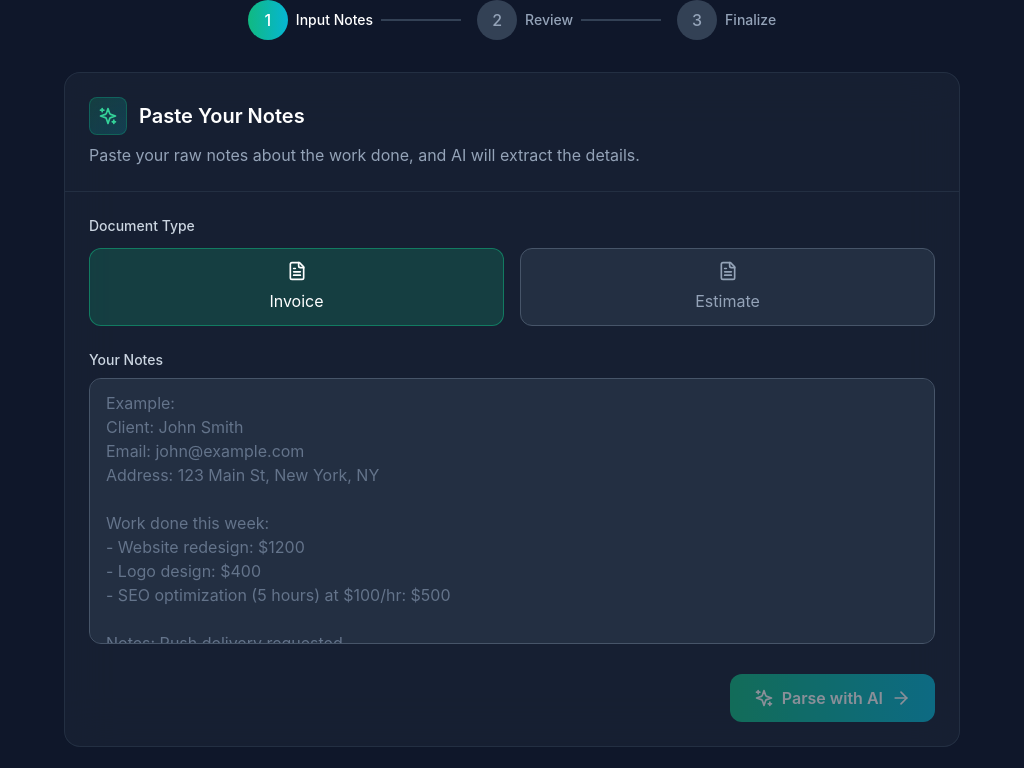
it: Full invoice creation happy path › displays parsed client fields and line items on the Review step
The image size is (1024, 768).
Replace the text in the text box with placeholder "Example:" with "Design work for Acme Corp" at (512, 511), box [89,378,935,644]
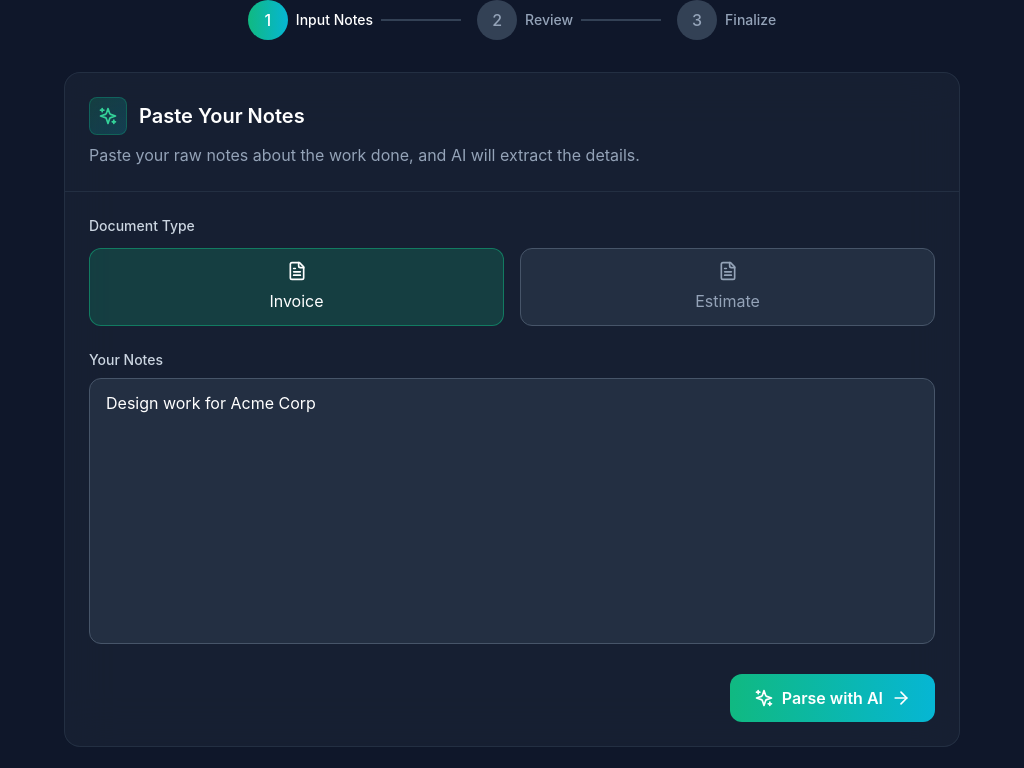
Click the button "Parse with AI" at (832, 698), box [730,674,935,722]
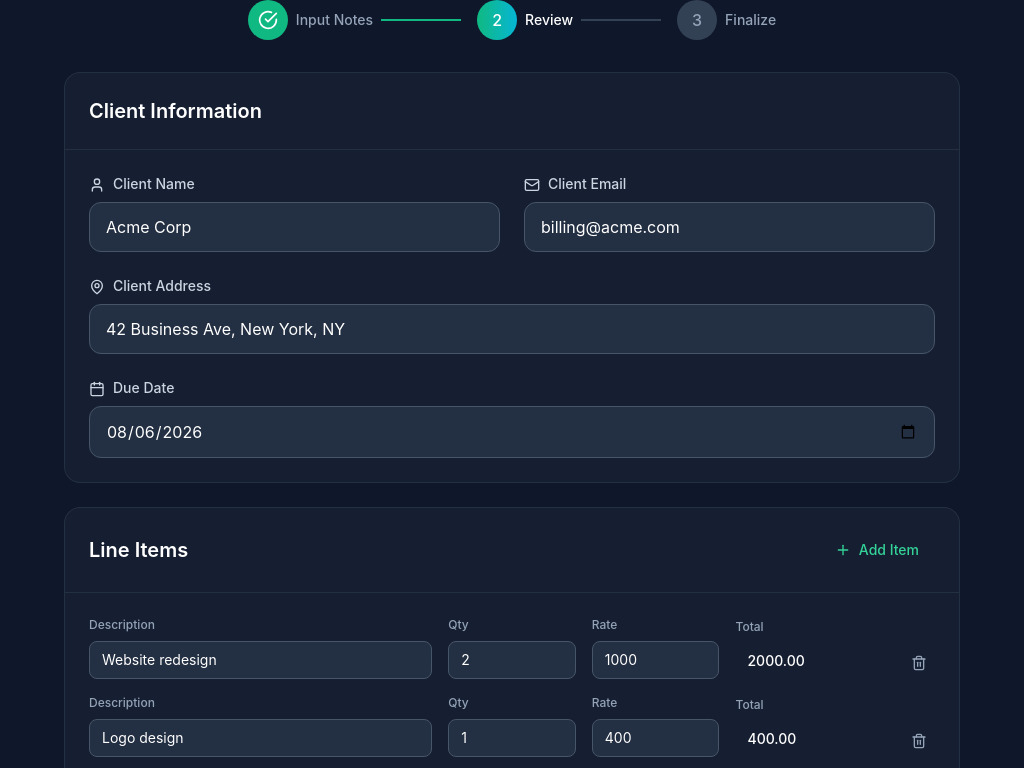
Expected: the heading "Client Information" is shown, [89,99,262,123]
Expected: the field showing "Acme Corp" below "Client Name" is shown, [89,202,500,252]
Expected: the field showing "billing@acme.com" below "Client Email" is shown, [524,202,935,252]
